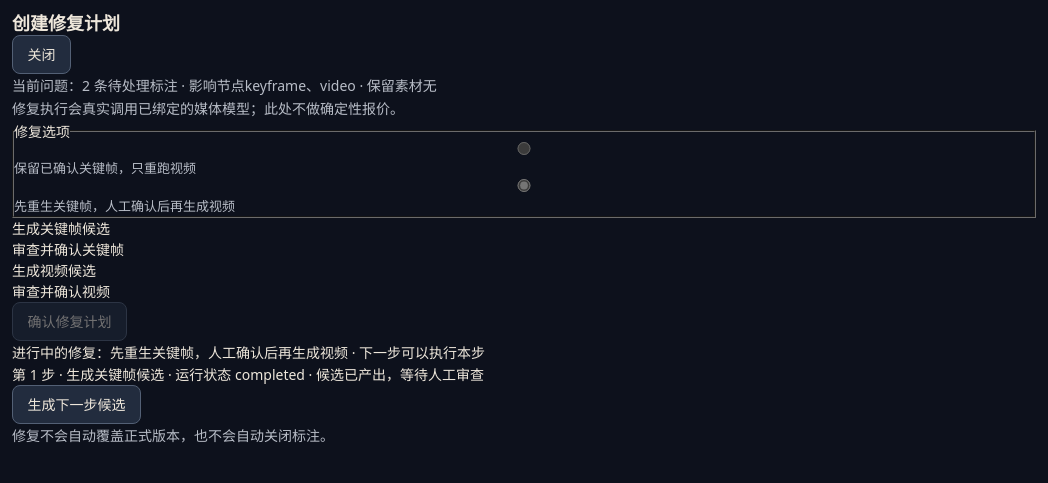
it: RepairPlanPanel › offers the next step only when the server says one may be executed
Click the button with test id "repair-execute-step": (76, 405) [12,385,141,424]
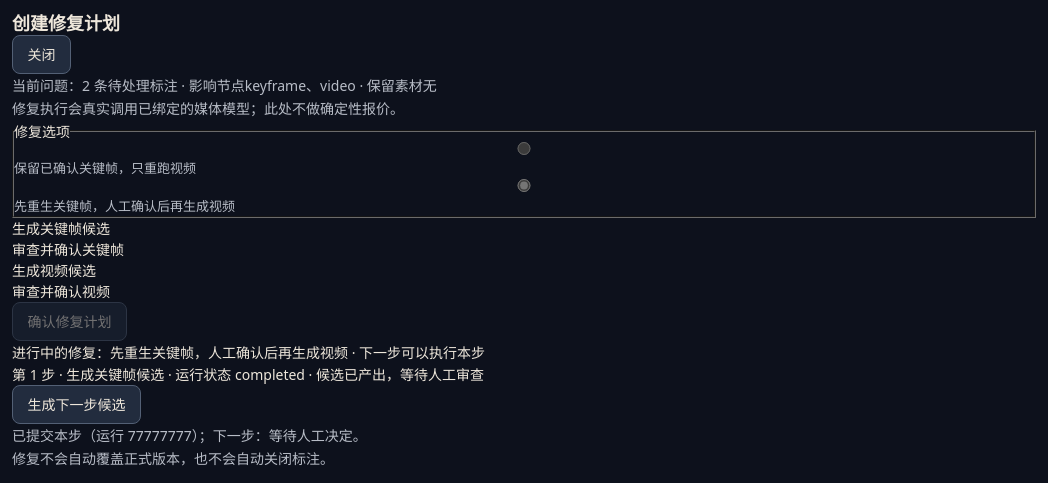
Check: the message with test id "repair-feedback" shows "已提交本步", box [12,426,367,445]
